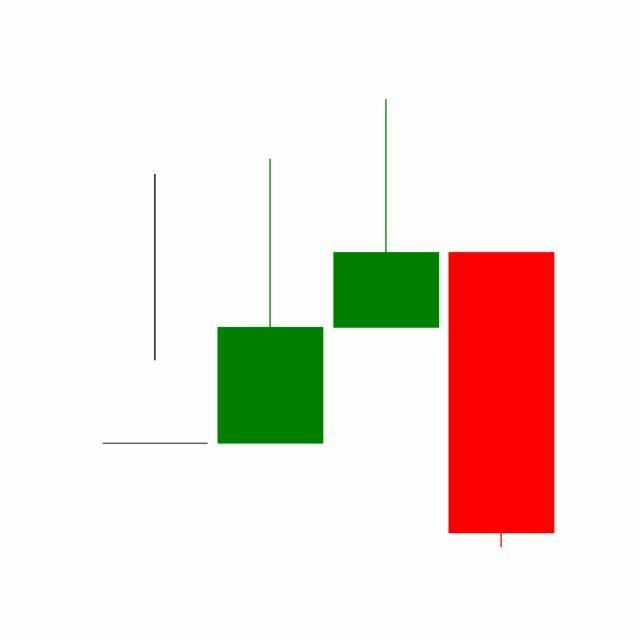Marubozu: (444, 250, 560, 552)
